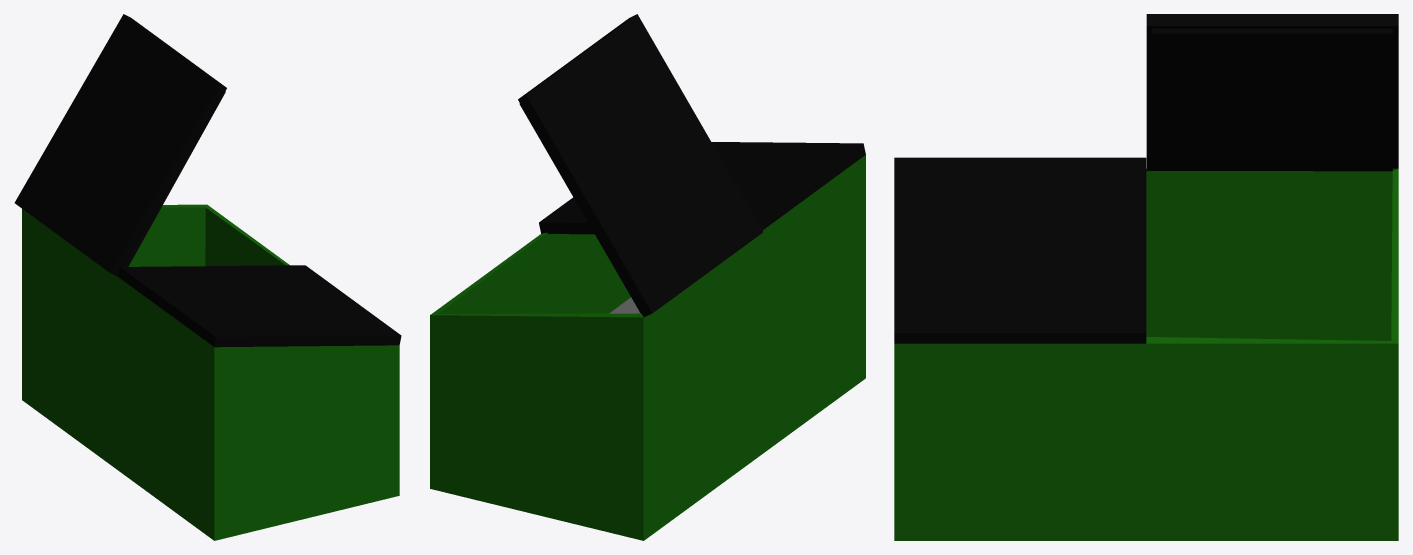
The model's file is bin.fbx.
The picture shows the model from 3 angles, left to right: view 1: azimuth 30°, elevation 25°; view 2: azimuth 150°, elevation 25°; view 3: azimuth 270°, elevation 25°; orthographic projection. The views are drawn at different scales.
Parts seen in each view (by area): view 1: Cube; view 2: Cube; view 3: Cube.
Boxes of the visible parts, left/top/right/bottom form: Cube: left=14, top=14, right=401, bottom=540; Cube: left=430, top=14, right=865, bottom=540; Cube: left=894, top=14, right=1398, bottom=540.
Size of the model in its own units: 210 by 373 by 360.
